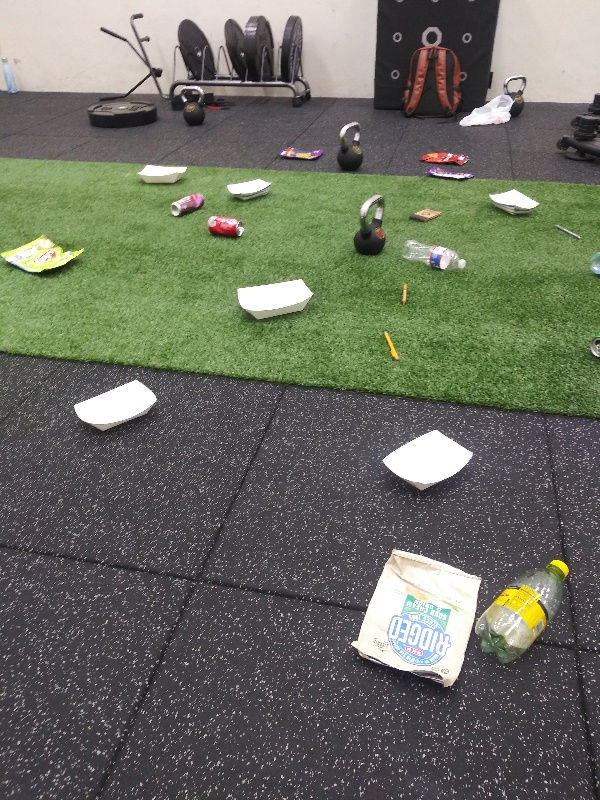bag: (348, 546, 486, 693), (1, 231, 90, 278), (417, 150, 473, 168), (274, 144, 327, 163), (424, 166, 483, 181)
bottle: (473, 556, 575, 667), (399, 237, 470, 277)
can: (167, 189, 209, 220), (206, 212, 247, 239), (587, 325, 600, 362)
plate: (377, 429, 477, 495), (70, 377, 159, 437), (235, 277, 317, 323), (483, 187, 543, 219), (134, 162, 189, 189), (224, 177, 276, 201)
